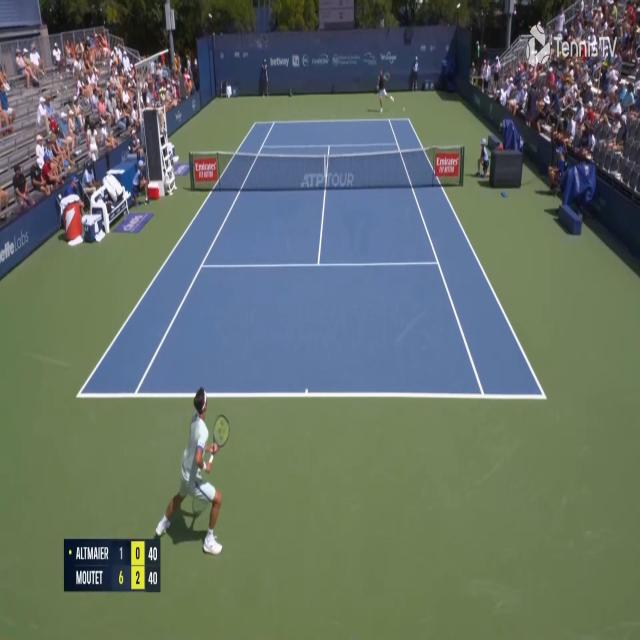tennis-player: (152, 380, 232, 560), (373, 67, 395, 113)
